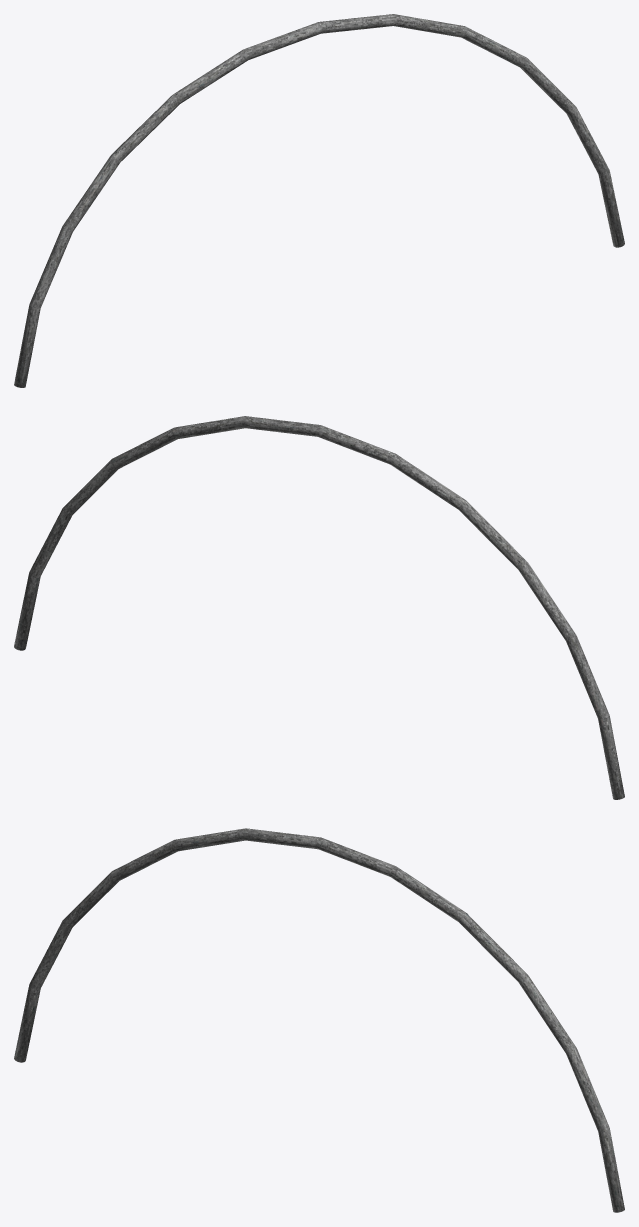
Rendered from original-3.obj.
3 renders of one model, top to bottom at view 1: azimuth 30°, elevation 25°; view 2: azimuth 150°, elevation 25°; view 3: azimuth 330°, elevation 25°, orthographic.
Visible parts, largest first — view 1: mesh3/mesh3-geometry#mesh3-geometry; view 2: mesh3/mesh3-geometry#mesh3-geometry; view 3: mesh3/mesh3-geometry#mesh3-geometry.
Part boxes in pixels (bbox=[...]): mesh3/mesh3-geometry#mesh3-geometry: bbox=[14, 14, 624, 387]; mesh3/mesh3-geometry#mesh3-geometry: bbox=[14, 416, 624, 799]; mesh3/mesh3-geometry#mesh3-geometry: bbox=[14, 828, 624, 1212].
Bounding box in the file's own units: 1.18 × 0.5465 × 0.0356.
